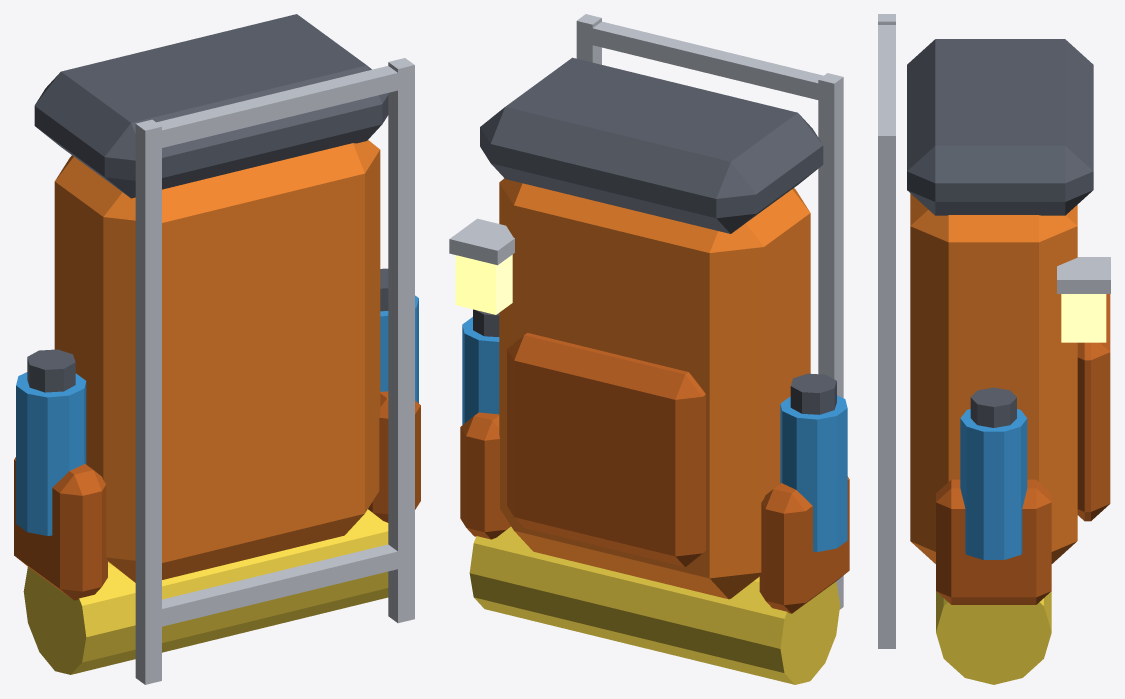
File: bag_hiker.glb
3 renders of one model, left to right at view 1: azimuth 30°, elevation 25°; view 2: azimuth 150°, elevation 25°; view 3: azimuth 270°, elevation 25°, orthographic. The views are drawn at different scales.
Parts seen in each view (by area): view 1: Fabric__F08228, Metal__C8CDD7, Fabric__5A606C, Fabric__FADC46, Fabric__C8641E, SmoothPlastic__3CA0E6; view 2: Fabric__F08228, Fabric__C8641E, Fabric__5A606C, Fabric__FADC46, Metal__C8CDD7, SmoothPlastic__3CA0E6, Neon__FFD278; view 3: Fabric__F08228, Fabric__5A606C, Fabric__C8641E, Metal__C8CDD7, SmoothPlastic__3CA0E6, Fabric__FADC46, Neon__FFD278.
Boxes of the visible parts, left/top/right/bottom form: Fabric__F08228: left=54, top=140, right=380, bottom=582; Metal__C8CDD7: left=135, top=58, right=414, bottom=684; Fabric__5A606C: left=27, top=14, right=388, bottom=392; Fabric__FADC46: left=23, top=509, right=388, bottom=674; Fabric__C8641E: left=14, top=391, right=420, bottom=600; SmoothPlastic__3CA0E6: left=16, top=295, right=418, bottom=535; Fabric__F08228: left=499, top=178, right=810, bottom=599; Fabric__C8641E: left=460, top=333, right=849, bottom=613; Fabric__5A606C: left=473, top=57, right=836, bottom=414; Fabric__FADC46: left=469, top=526, right=840, bottom=684; Metal__C8CDD7: left=449, top=14, right=843, bottom=609; SmoothPlastic__3CA0E6: left=462, top=317, right=847, bottom=551; Neon__FFD278: left=455, top=254, right=512, bottom=314; Fabric__F08228: left=910, top=193, right=1077, bottom=563; Fabric__5A606C: left=907, top=39, right=1093, bottom=427; Fabric__C8641E: left=936, top=294, right=1110, bottom=604; Metal__C8CDD7: left=878, top=14, right=1110, bottom=648; SmoothPlastic__3CA0E6: left=960, top=409, right=1027, bottom=559; Fabric__FADC46: left=936, top=591, right=1051, bottom=684; Neon__FFD278: left=1061, top=294, right=1106, bottom=342.
Bounding box in the file's own units: 3.25 × 4.6 × 1.81.
